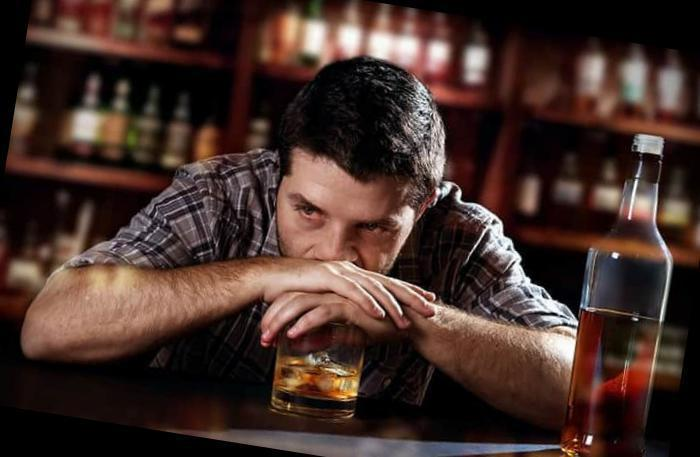Drunk: (283, 153, 395, 274)
